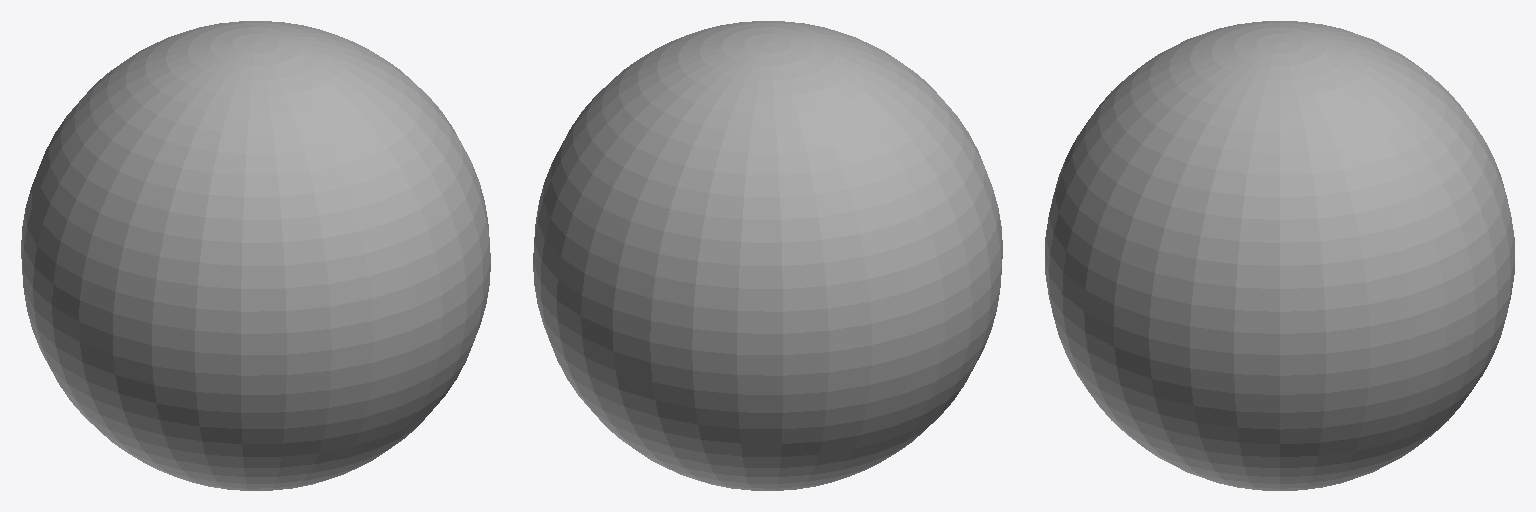
The model's file is sphere_broken.obj.
3 views of the same model, side by side, from view 1: azimuth 30°, elevation 25°; view 2: azimuth 150°, elevation 25°; view 3: azimuth 270°, elevation 25° (orthographic).
Visible parts, largest first — view 1: sphere_smooth; view 2: sphere_smooth; view 3: sphere_smooth.
Part boxes in pixels (bbox=[...]): sphere_smooth: bbox=[21, 21, 490, 490]; sphere_smooth: bbox=[533, 21, 1002, 490]; sphere_smooth: bbox=[1045, 21, 1514, 490].
Bounding box in the file's own units: 2 × 2 × 2.